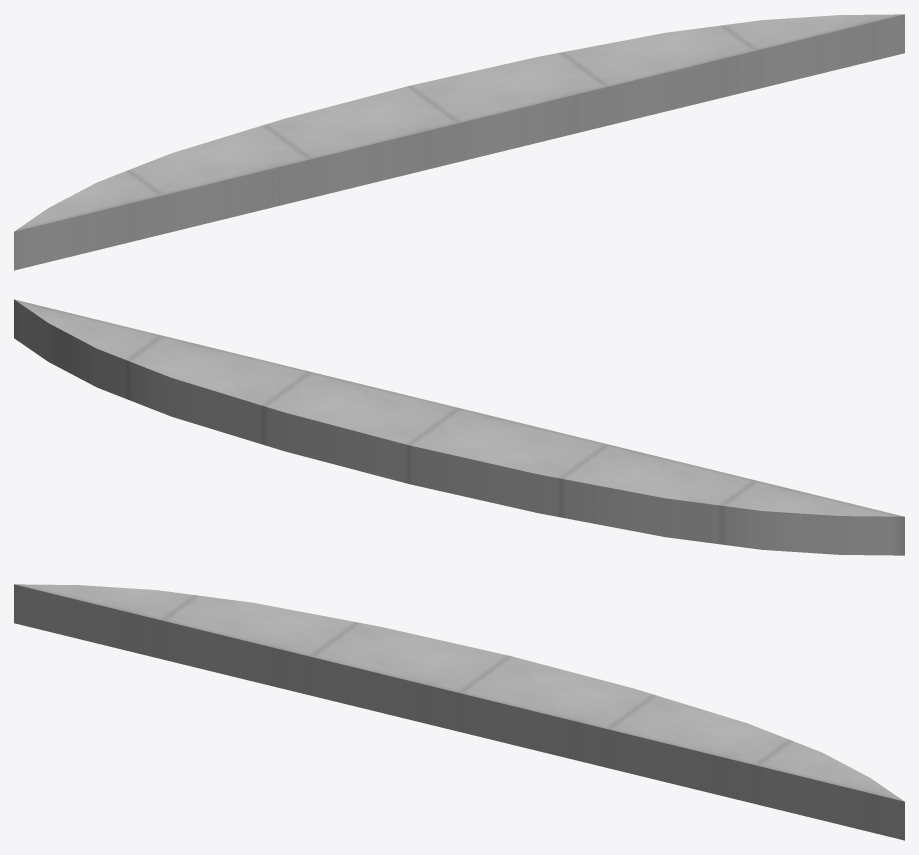
Rendered from MM_SideWalk_8Round.fbx.
3 renders of one model, top to bottom at view 1: azimuth 30°, elevation 25°; view 2: azimuth 150°, elevation 25°; view 3: azimuth 330°, elevation 25°, orthographic.
Parts seen in each view (by area): view 1: MM_SideWalk_8Round; view 2: MM_SideWalk_8Round; view 3: MM_SideWalk_8Round.
Part boxes in pixels (<box>): MM_SideWalk_8Round: <box>14,14,904,270</box>; MM_SideWalk_8Round: <box>14,299,904,555</box>; MM_SideWalk_8Round: <box>14,584,904,840</box>.
Size of the model in its own units: 24 by 1 by 2.37.
